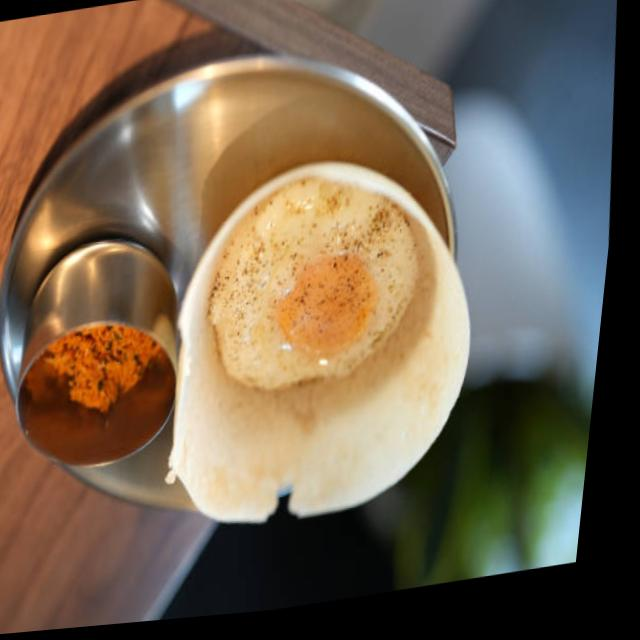AAPAM: (170, 121, 510, 564)
RED CHUTNEY: (6, 268, 175, 487)
